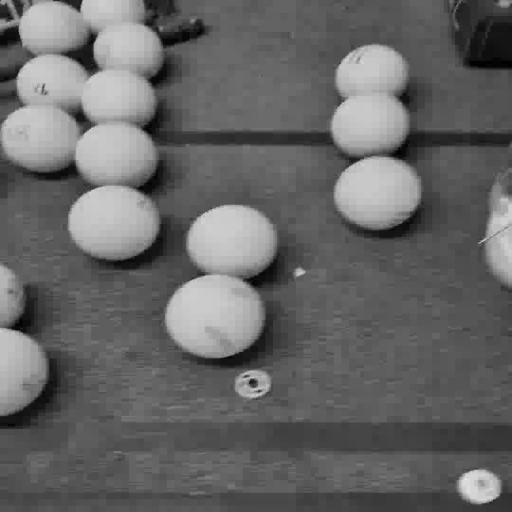fuel: (165, 274, 265, 359), (68, 186, 160, 261), (186, 205, 277, 279), (334, 156, 421, 230), (75, 122, 159, 187), (0, 106, 81, 173), (330, 94, 409, 158), (0, 328, 49, 416), (82, 70, 157, 127), (16, 55, 88, 114), (336, 44, 409, 98), (94, 23, 164, 78), (19, 2, 89, 55), (0, 264, 25, 327)
